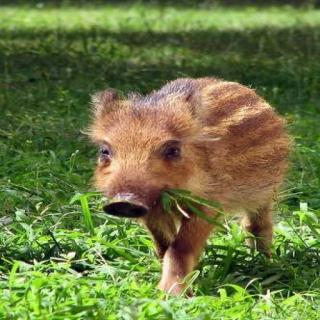Pig: (55, 52, 302, 274)
